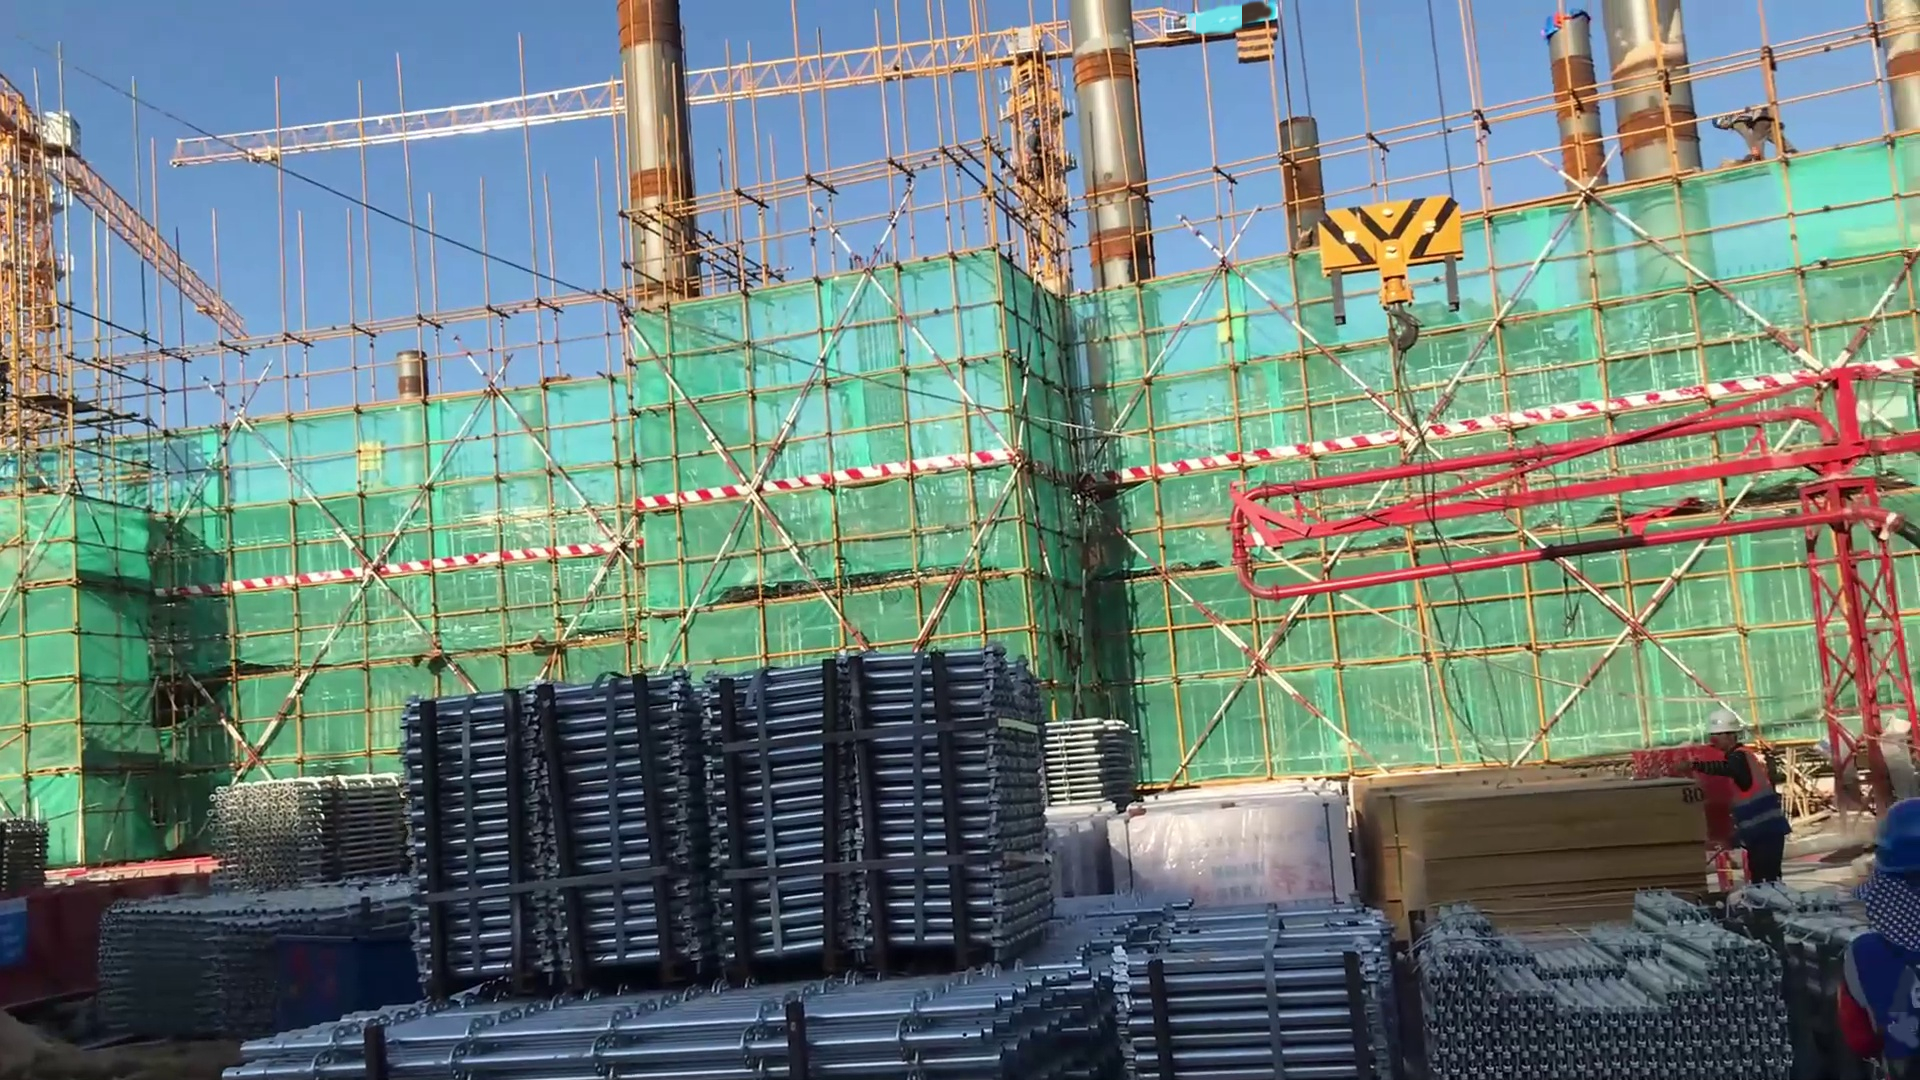board: (1345, 772, 1693, 944)
helmet: (1855, 795, 1920, 882)
hook: (1320, 173, 1475, 376)
person: (1823, 788, 1920, 1066), (1685, 711, 1792, 894), (1711, 103, 1806, 165)
scaffold: (413, 634, 1025, 981), (250, 999, 1082, 1080), (1419, 906, 1804, 1077), (1056, 901, 1383, 1070), (86, 876, 426, 1035), (205, 771, 426, 882)
slogan: (1, 892, 37, 989)
vest: (1836, 932, 1920, 1077), (1724, 747, 1791, 840)
